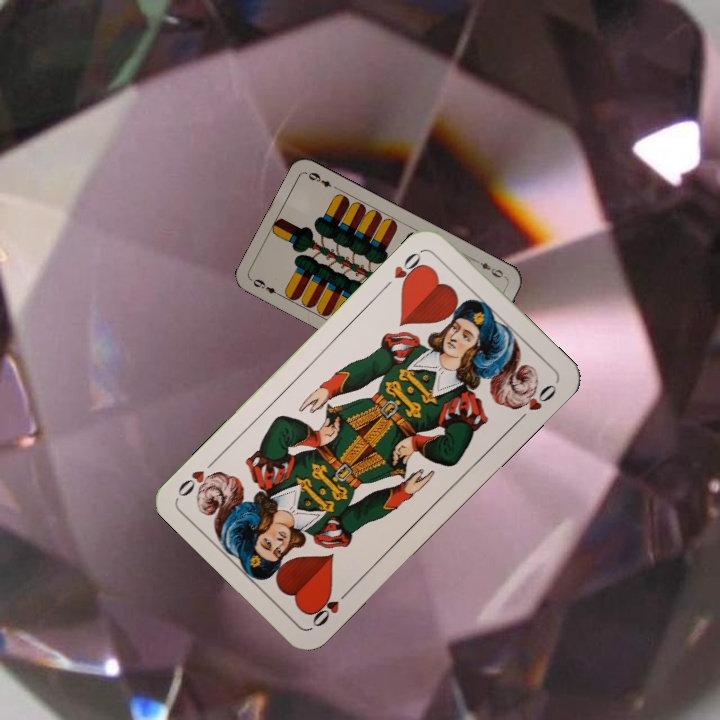E9: (249, 275, 285, 300), (476, 258, 509, 281)
HO: (379, 246, 428, 293), (306, 584, 354, 630)
